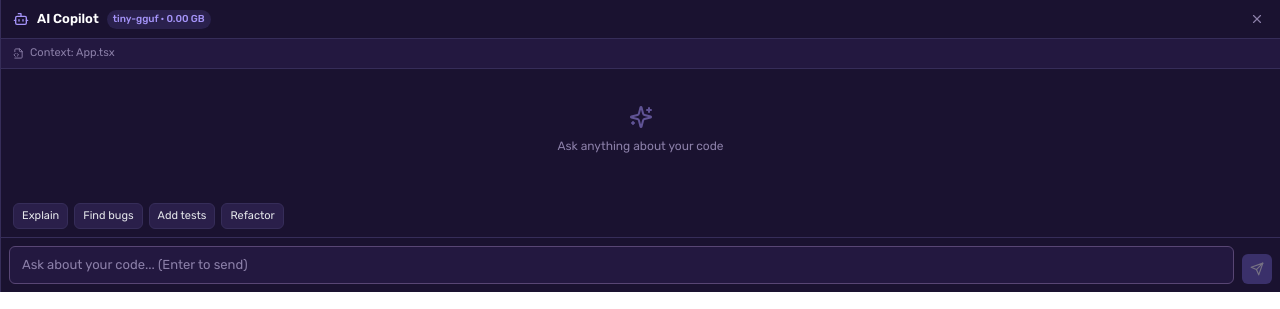
routes copilot requests through model-manager when the active model is a model-manager model
The image size is (1280, 309).
Type "Explain this code" into the text box named "Copilot input".
click(622, 265); type("Explain this code")  # box left=9, top=246, right=1234, bottom=284
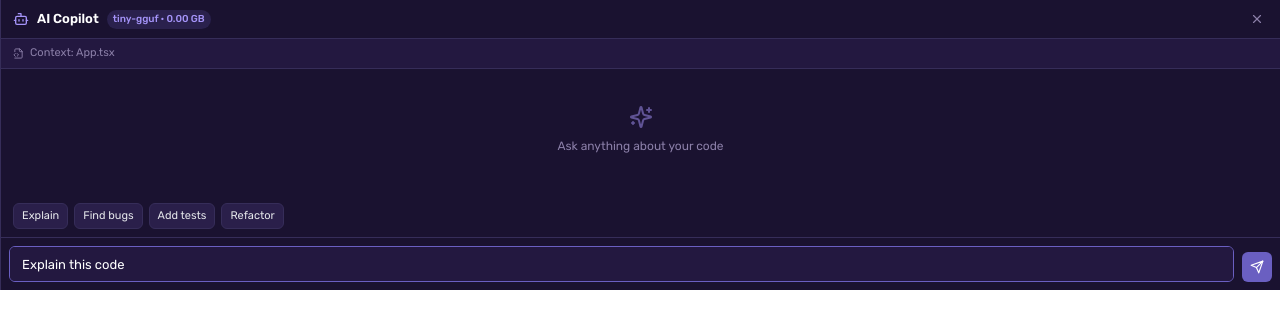
Click the button named "Send message".
click(1257, 267)  # box left=1242, top=252, right=1272, bottom=282
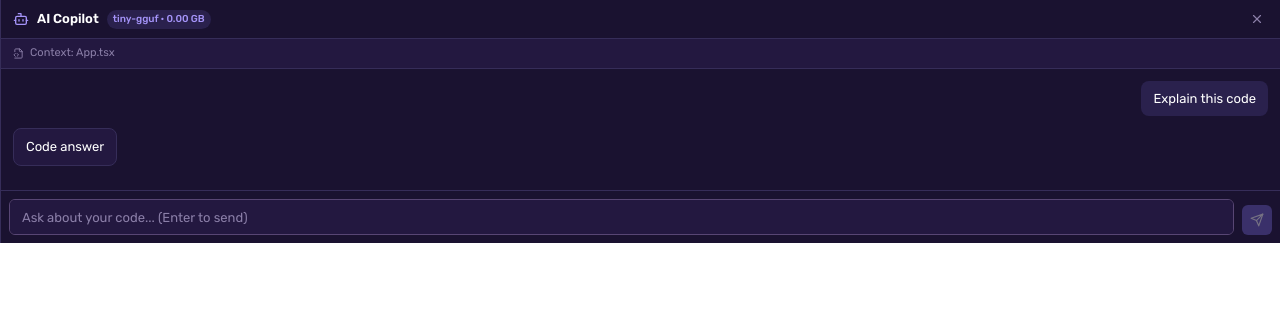
expect the text "Code answer" is shown: met, box left=13, top=128, right=117, bottom=166
